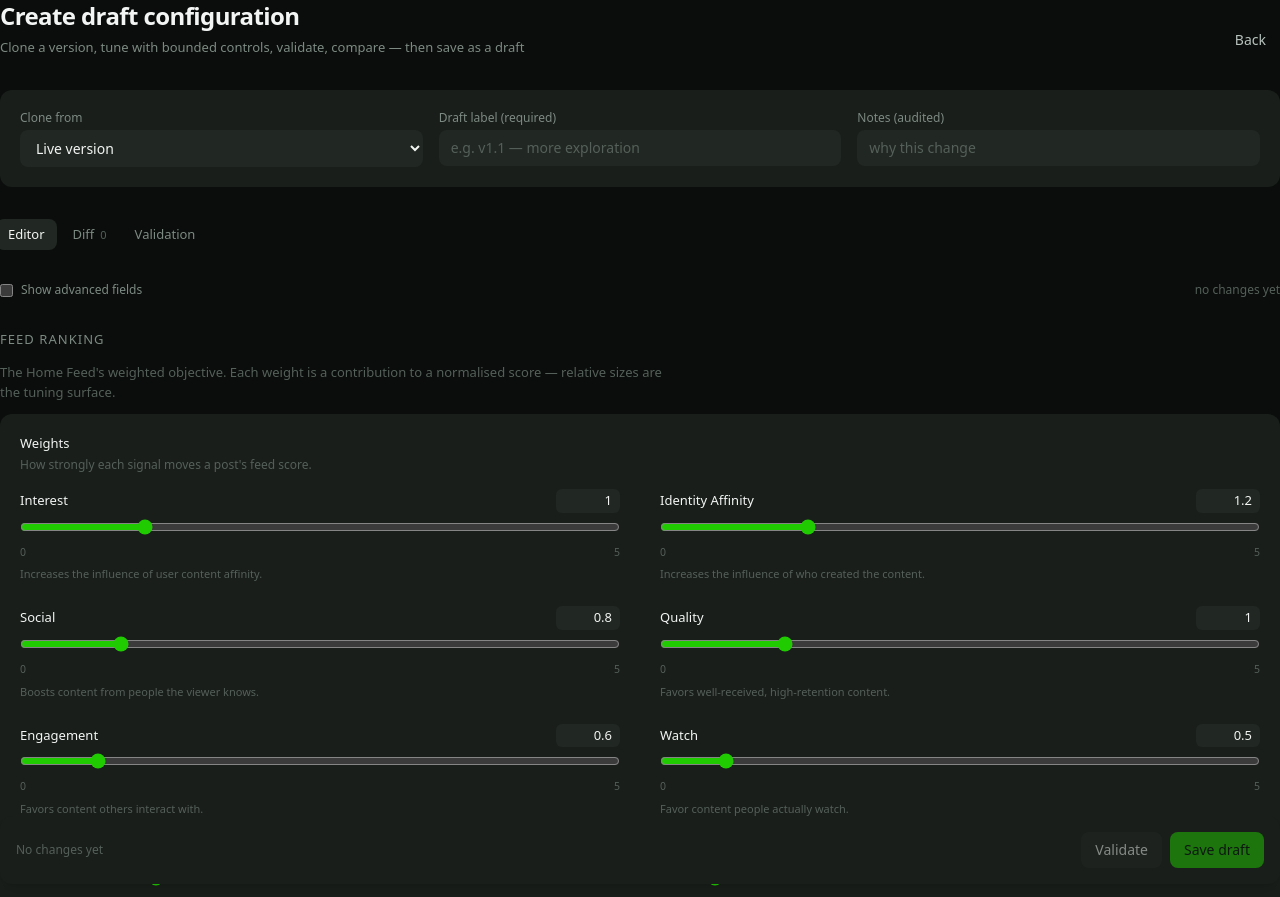
Configuration draft editor › the diff tab lists structured changes with old → new values
Replace the text in the field named "Interest numeric value" with "1.45" at (588, 501), box [556, 489, 620, 512]
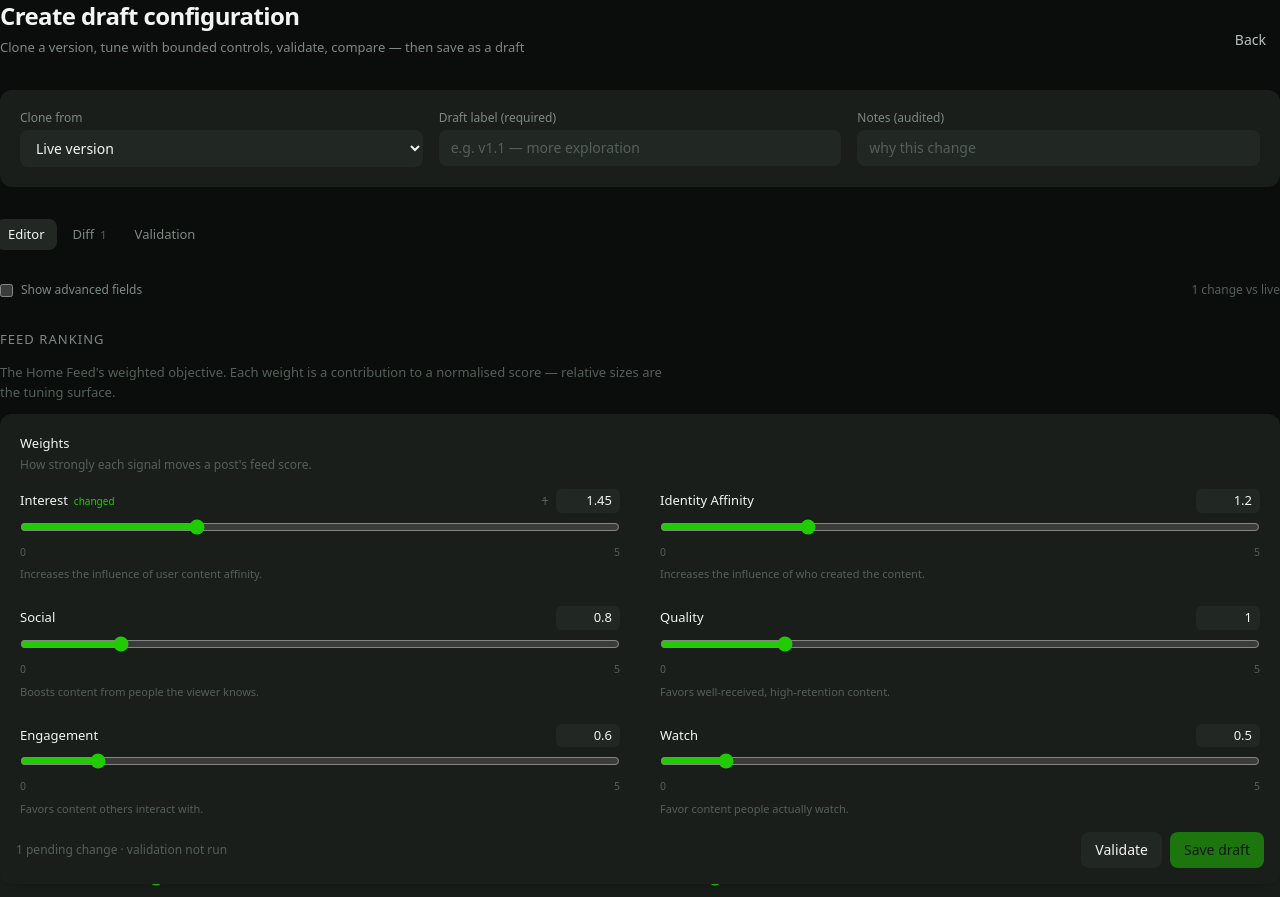
Click the tab "Diff1" at (90, 234), box [60, 218, 119, 250]
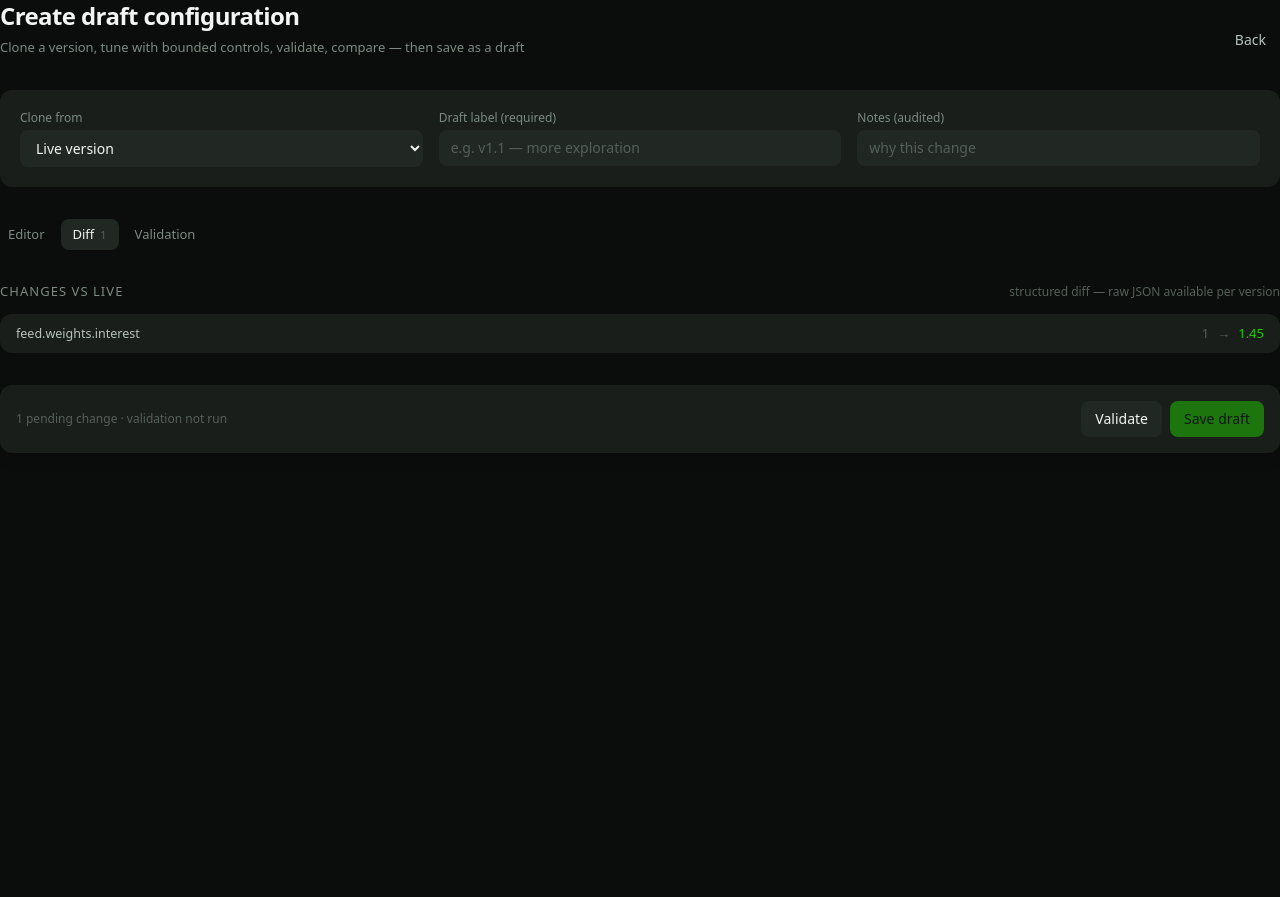
Expected: the text "feed.weights.interest" is shown, [16, 324, 140, 343]
Expected: the text "1.45" is shown, [1238, 324, 1264, 343]
